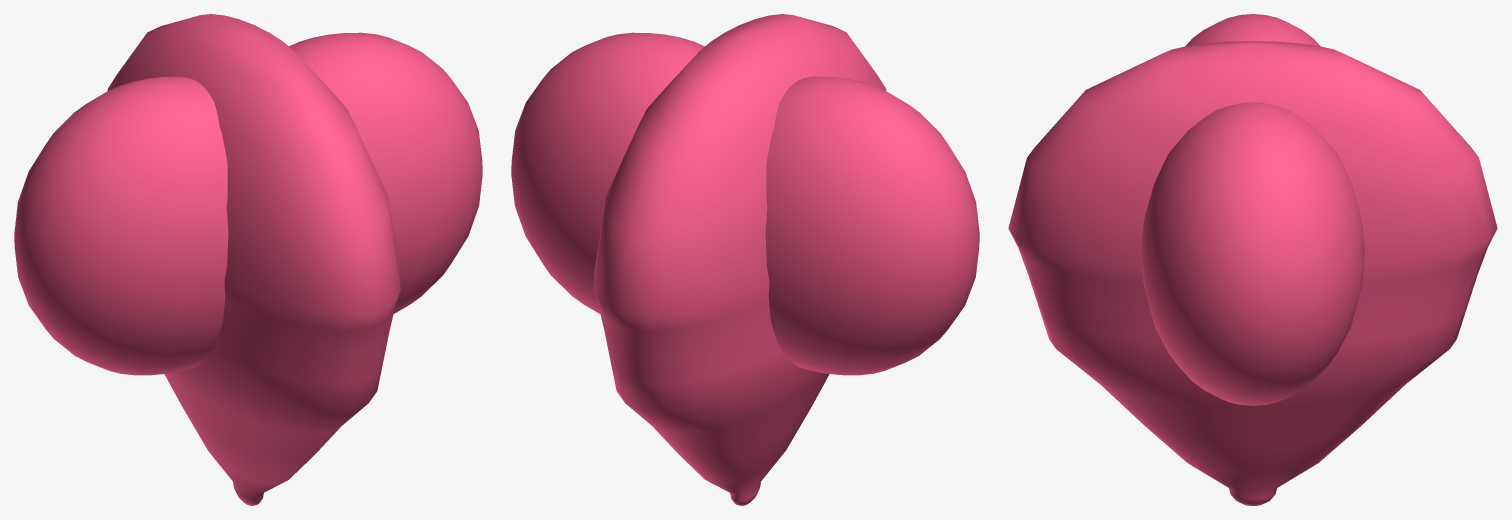
Rendered from icon_heart.glb.
3 views of the same model, side by side, from view 1: azimuth 30°, elevation 25°; view 2: azimuth 150°, elevation 25°; view 3: azimuth 270°, elevation 25° (orthographic).
Parts seen in each view (by area): view 1: icon_heart; view 2: icon_heart; view 3: icon_heart.
Boxes of the visible parts, x1=… form: icon_heart: x1=14, y1=14, x2=482, y2=505; icon_heart: x1=511, y1=14, x2=979, y2=505; icon_heart: x1=1008, y1=14, x2=1497, y2=505.
Size of the model in its own units: 0.6 by 0.6 by 0.576.
